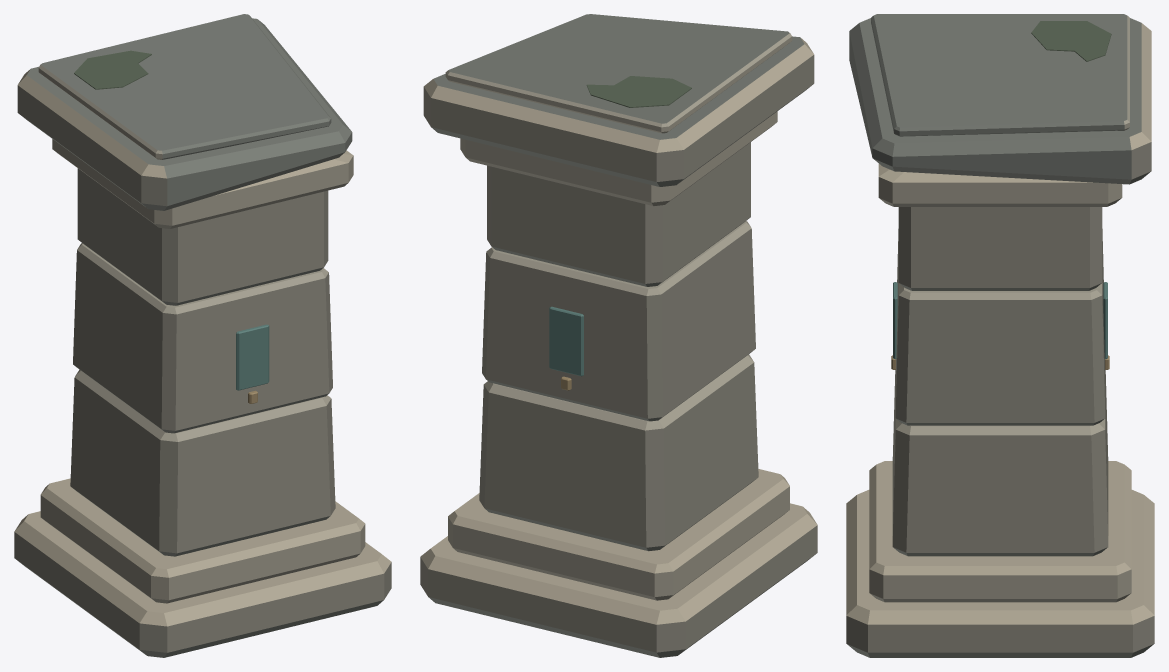
File: pillar-large-chipped.glb
3 views of the same model, side by side, from view 1: azimuth 30°, elevation 25°; view 2: azimuth 150°, elevation 25°; view 3: azimuth 270°, elevation 25° (orthographic). The views are drawn at different scales.
Visible parts, largest first — view 1: pillar-large-chipped; view 2: pillar-large-chipped; view 3: pillar-large-chipped.
Boxes of the visible parts, <box> form: pillar-large-chipped: <box>14,14,391,657</box>; pillar-large-chipped: <box>420,14,817,657</box>; pillar-large-chipped: <box>846,14,1154,657</box>.
Bounding box in the file's own units: 1 × 1.9 × 1.
